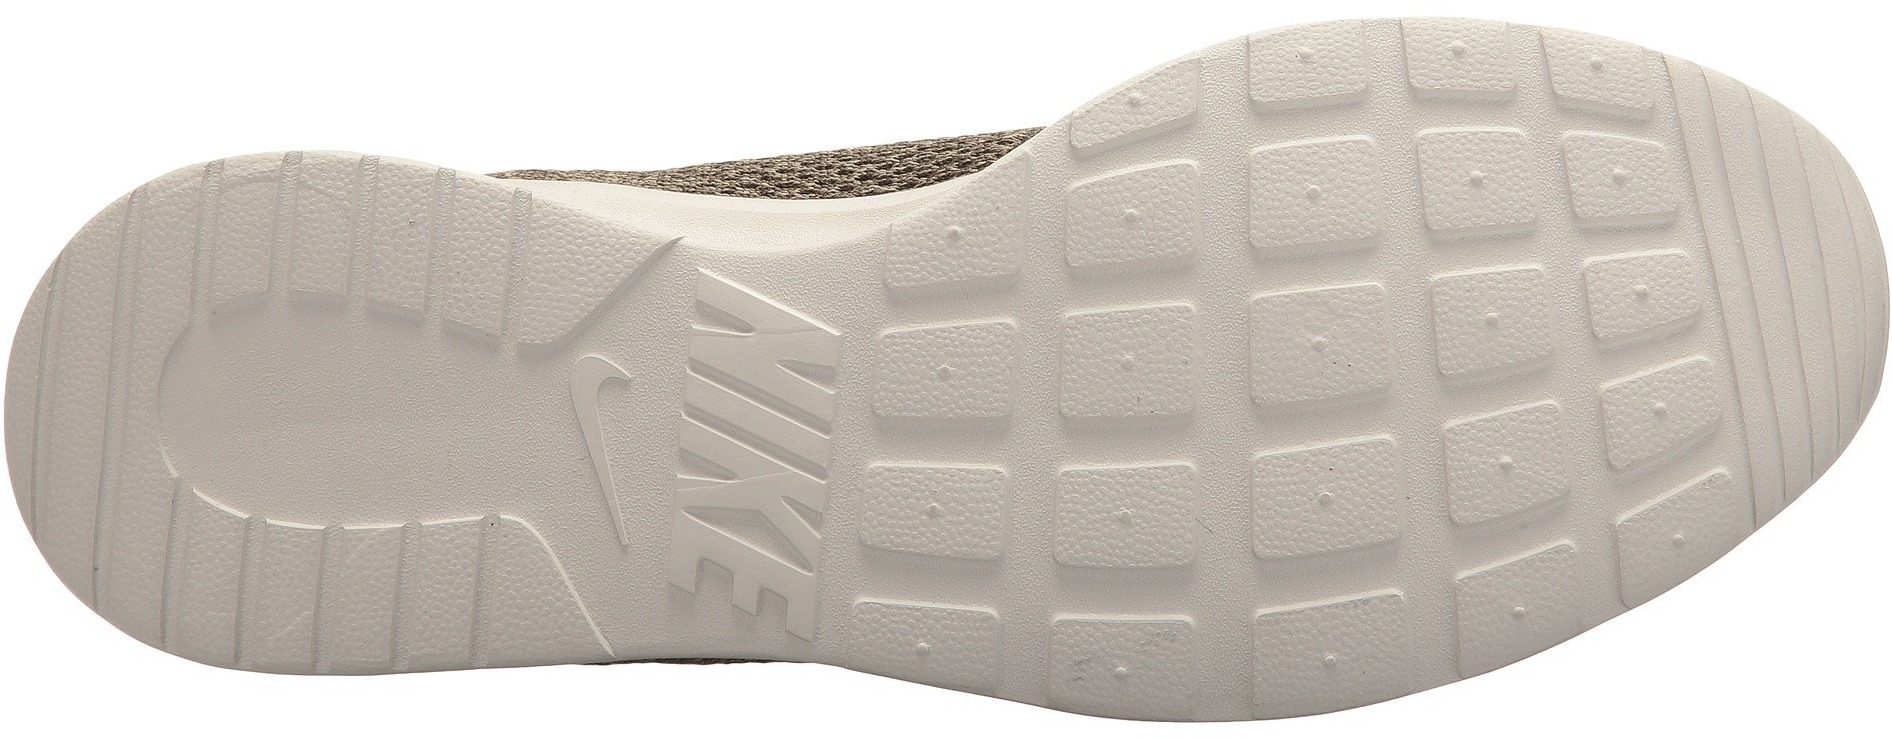chevron: (494, 339, 703, 560)
line: (1709, 192, 1886, 361)
other: (240, 332, 425, 508)
quad: (1041, 99, 1596, 601), (856, 291, 1205, 588), (1417, 227, 1732, 539), (292, 156, 444, 317), (249, 520, 407, 672), (8, 322, 157, 471)
text: (666, 262, 875, 471), (652, 440, 853, 654)
